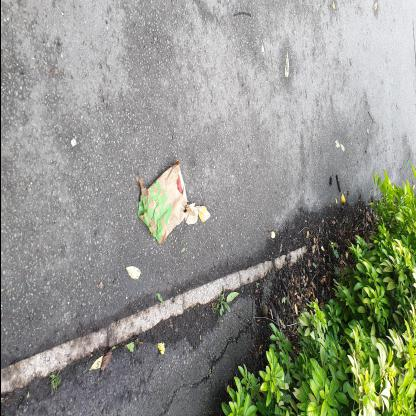kagit: (136, 160, 186, 244)
